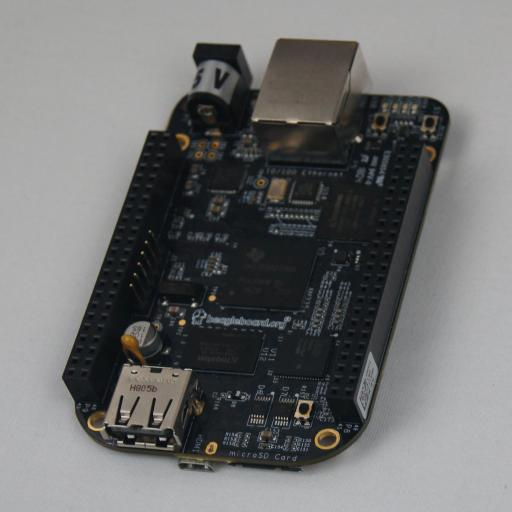Beaglebone Black: (62, 39, 450, 472)
